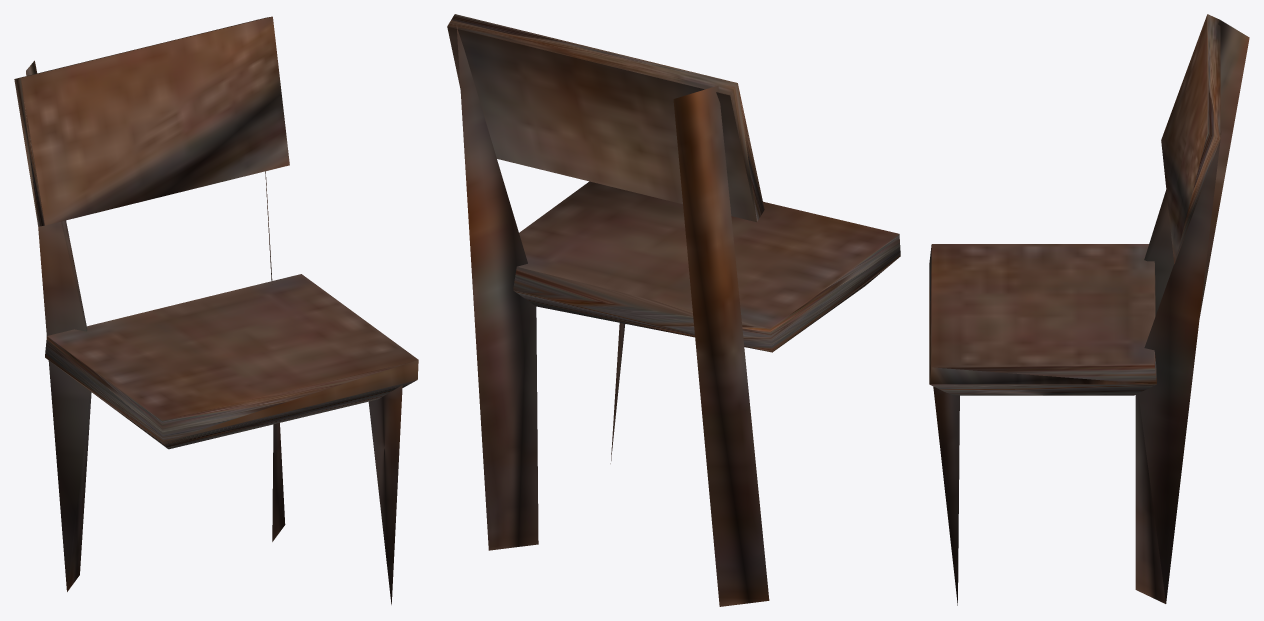
The picture shows the model from 3 angles, left to right: view 1: azimuth 30°, elevation 25°; view 2: azimuth 150°, elevation 25°; view 3: azimuth 270°, elevation 25°; orthographic projection. The views are drawn at different scales.
Visible parts, largest first — view 1: chair; view 2: chair; view 3: chair.
Part boxes in pixels (x1,y1,x2,y2): chair: [14, 16, 418, 604]; chair: [447, 14, 900, 606]; chair: [929, 14, 1249, 605].
Bounding box in the file's own units: 0.4901 × 0.8938 × 0.5421.
Materials: 1 (1 with a texture image).
